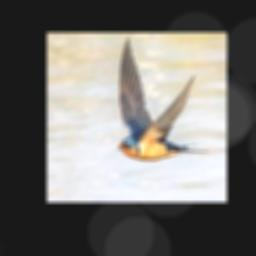Swallow: (115, 36, 208, 160)
